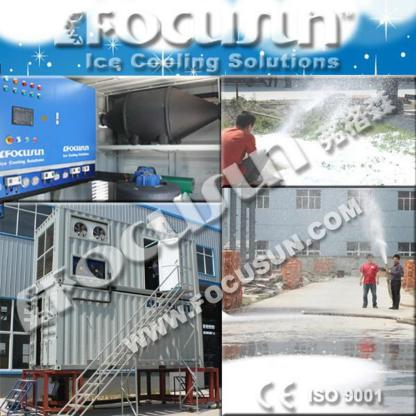face: (249, 119, 257, 134), (393, 259, 399, 265), (368, 257, 373, 263)
